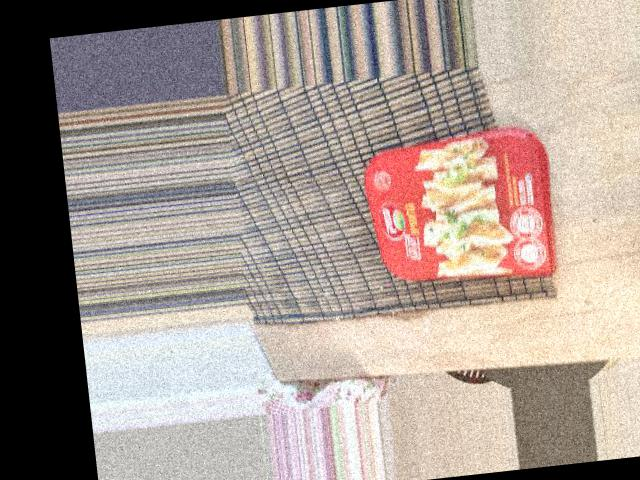cheese: (302, 72, 446, 275)
